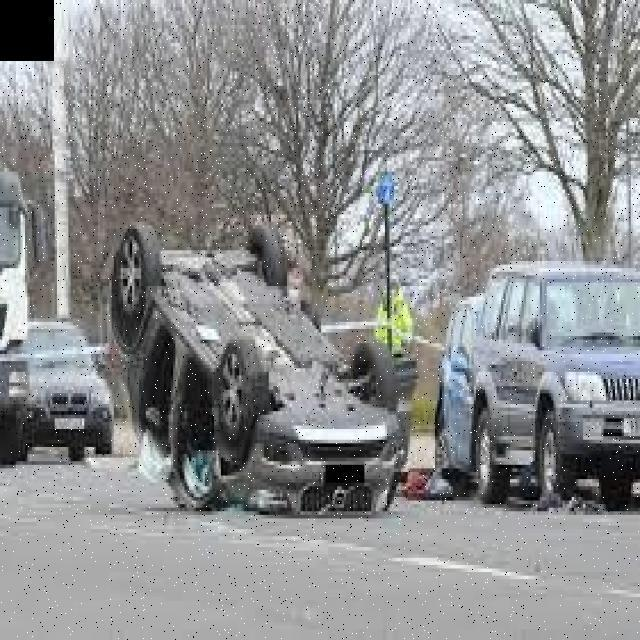normal: (424, 273, 639, 469), (0, 163, 114, 474)
single accident: (127, 214, 390, 511)
